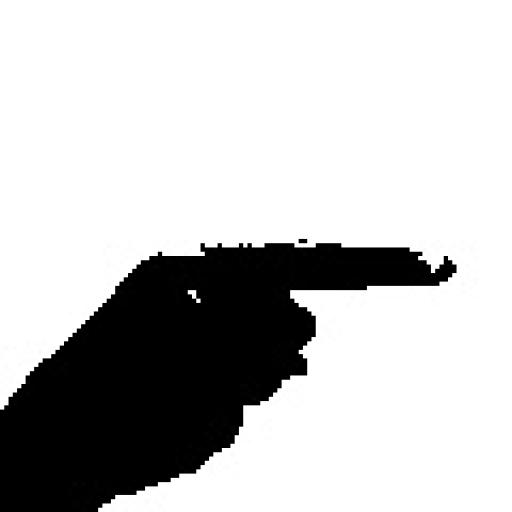index_right: (0, 236, 458, 435)
